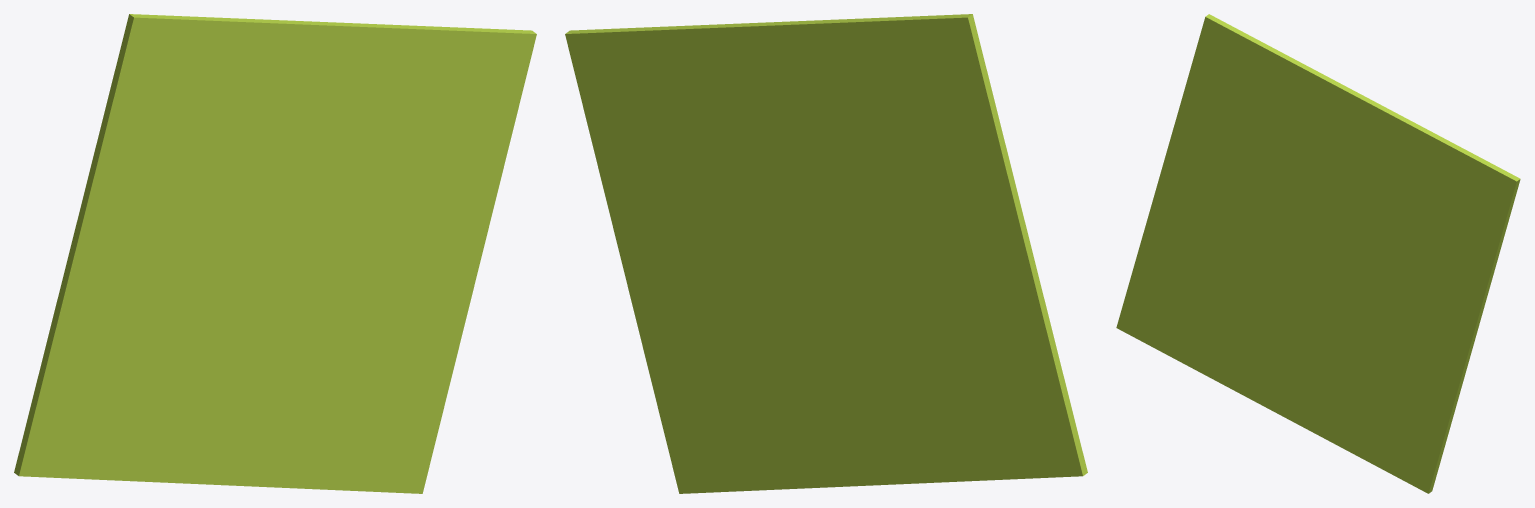
The picture shows the model from 3 angles, left to right: view 1: azimuth 30°, elevation 25°; view 2: azimuth 150°, elevation 25°; view 3: azimuth 330°, elevation 25°; orthographic projection. The views are drawn at different scales.
Visible parts, largest first — view 1: osm-way27917482-F2; view 2: osm-way27917482-F2; view 3: osm-way27917482-F2.
Part boxes in pixels (box(x1,y1,x2,y2)): osm-way27917482-F2: box(14, 14, 536, 493); osm-way27917482-F2: box(565, 14, 1087, 493); osm-way27917482-F2: box(1116, 14, 1520, 493).
Size of the model in its own units: 9.18 by 9.26 by 0.15.
